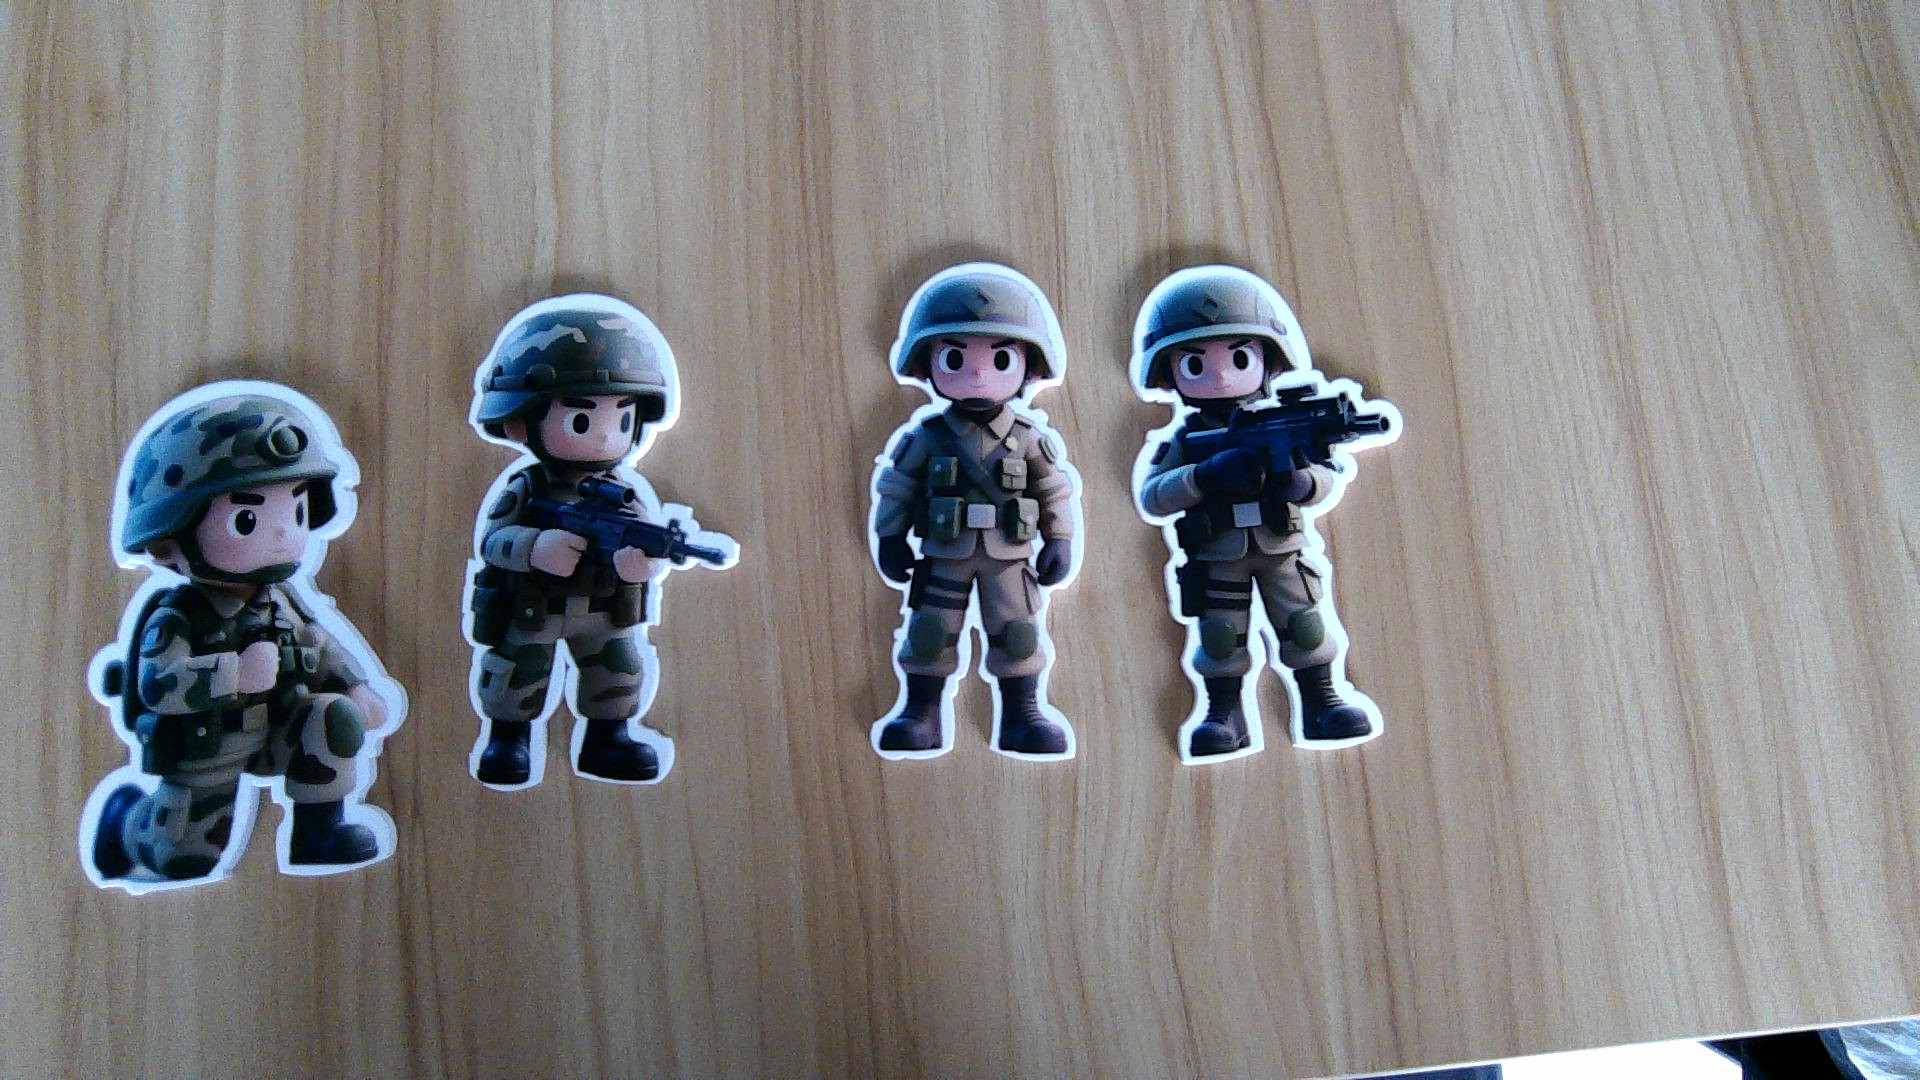友军: (71, 579, 410, 894), (1124, 405, 1406, 774), (455, 473, 742, 795), (855, 402, 1088, 760)
